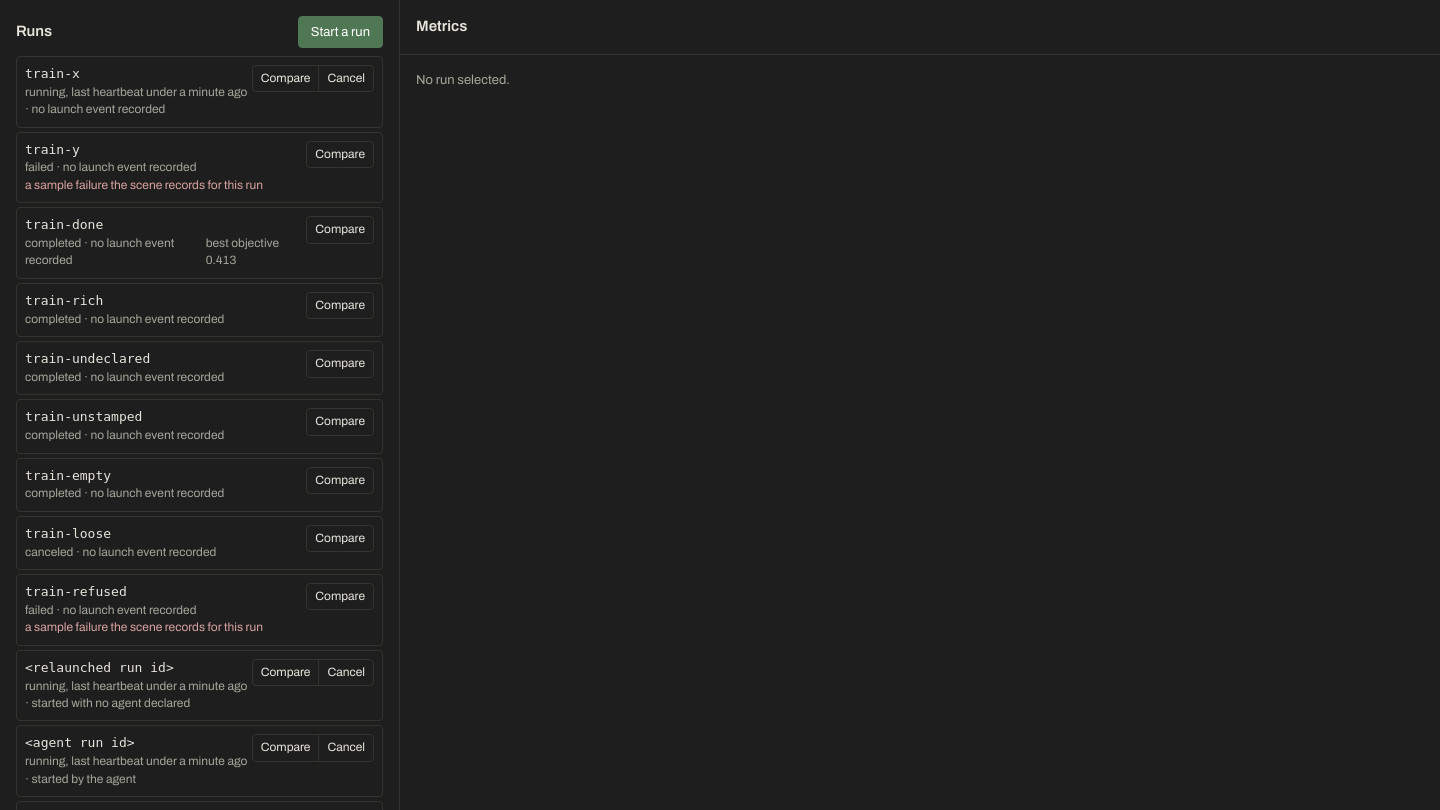
Scenario: TrainingTab tensorboard panel › keeps Try again for an ordinary failed launch
The image size is (1440, 810).
Click the text "train-refused" at (76, 592), box top-left (25, 584), bottom-right (127, 599)
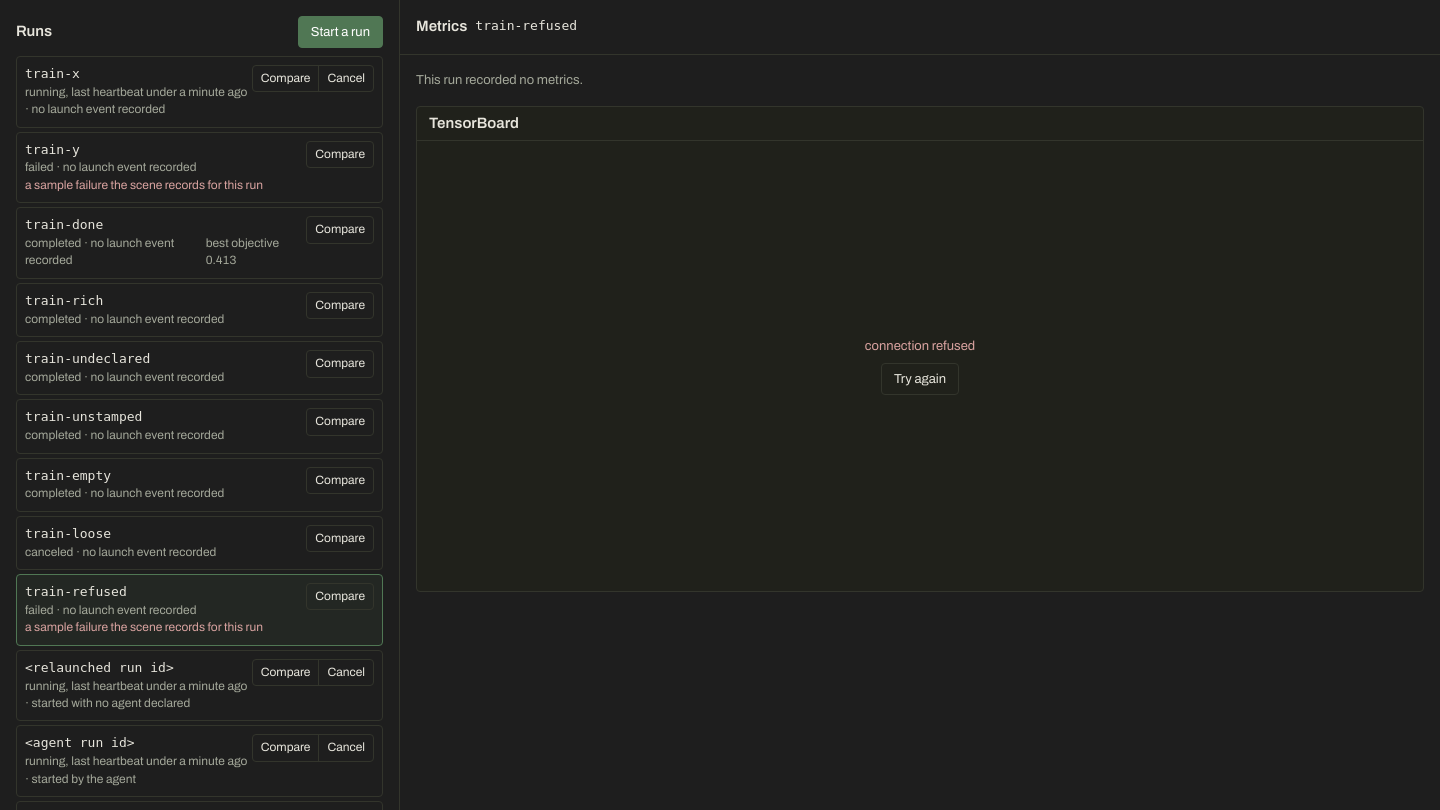
Expected: the text "connection refused" is shown, top-left (865, 336), bottom-right (975, 355)
Expected: the button with aria-label "Try again: TensorBoard" is shown, top-left (881, 363), bottom-right (959, 395)
